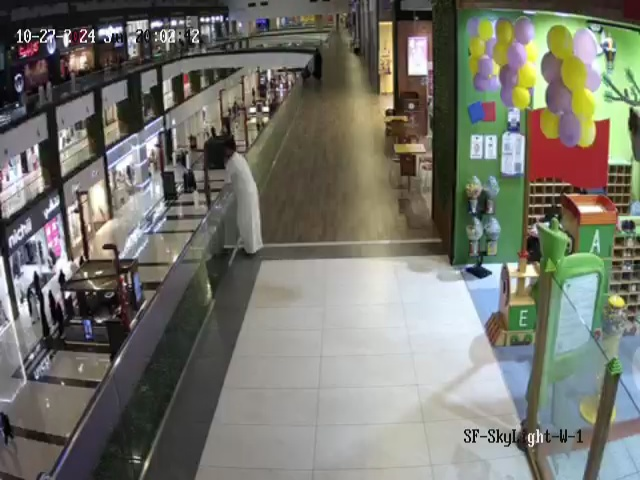female: (38, 264, 60, 340), (178, 167, 200, 201), (45, 284, 63, 318), (54, 303, 68, 335), (58, 269, 69, 297)
male: (222, 136, 264, 257), (20, 281, 43, 340), (188, 189, 207, 214)
